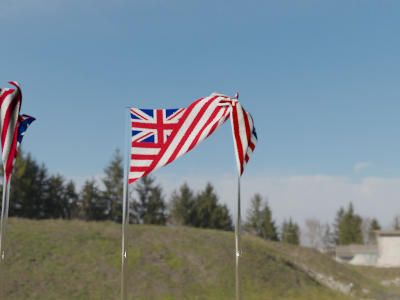America flag: (230, 91, 258, 175)
Liberia flag: (1, 81, 35, 186)
Malaysia flag: (128, 84, 228, 181)
